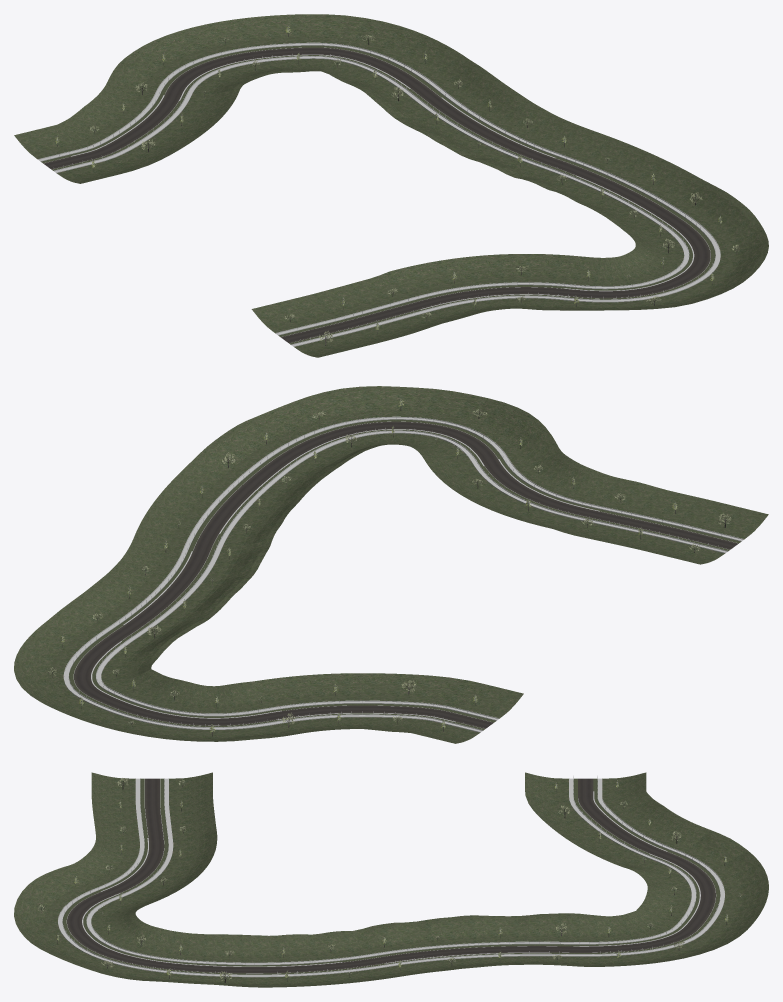
The picture shows the model from 3 angles, top to bottom: view 1: azimuth 30°, elevation 25°; view 2: azimuth 150°, elevation 25°; view 3: azimuth 270°, elevation 25°; orthographic projection. The views are drawn at different scales.
Visible parts, largest first — view 1: Grass, Track, Road, Trees; view 2: Grass, Road, Track, Trees; view 3: Grass, Track, Road, Trees.
Part boxes in pixels (<box>): Grass: <box>14,14,768,357</box>; Track: <box>38,42,720,346</box>; Road: <box>43,47,710,343</box>; Trees: <box>55,25,739,345</box>; Grass: <box>14,386,768,743</box>; Road: <box>74,421,738,728</box>; Track: <box>63,416,743,732</box>; Trees: <box>47,398,731,736</box>; Grass: <box>14,772,768,987</box>; Track: <box>58,776,724,977</box>; Road: <box>67,778,715,973</box>; Trees: <box>37,778,741,982</box>.
Size of what is drawn, in the model's own units: 57918 by 2725 by 87134.
